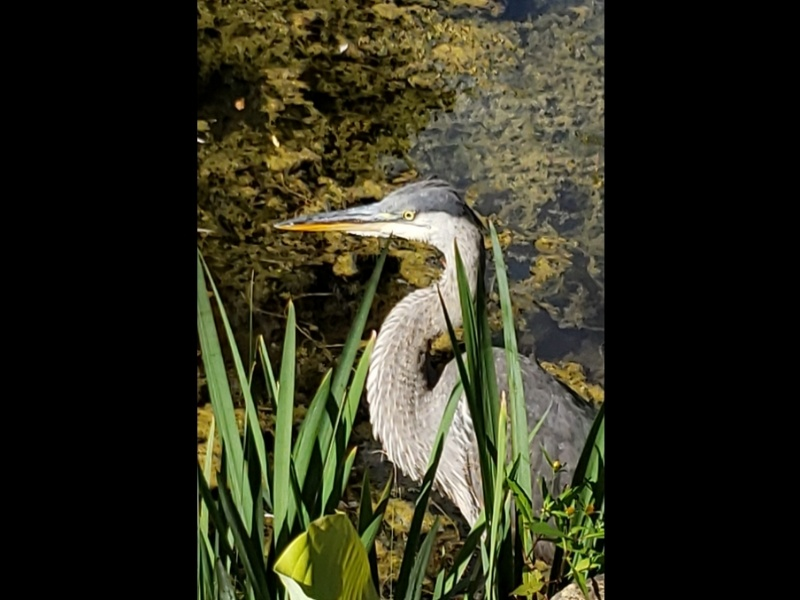heron: (269, 176, 601, 580)
